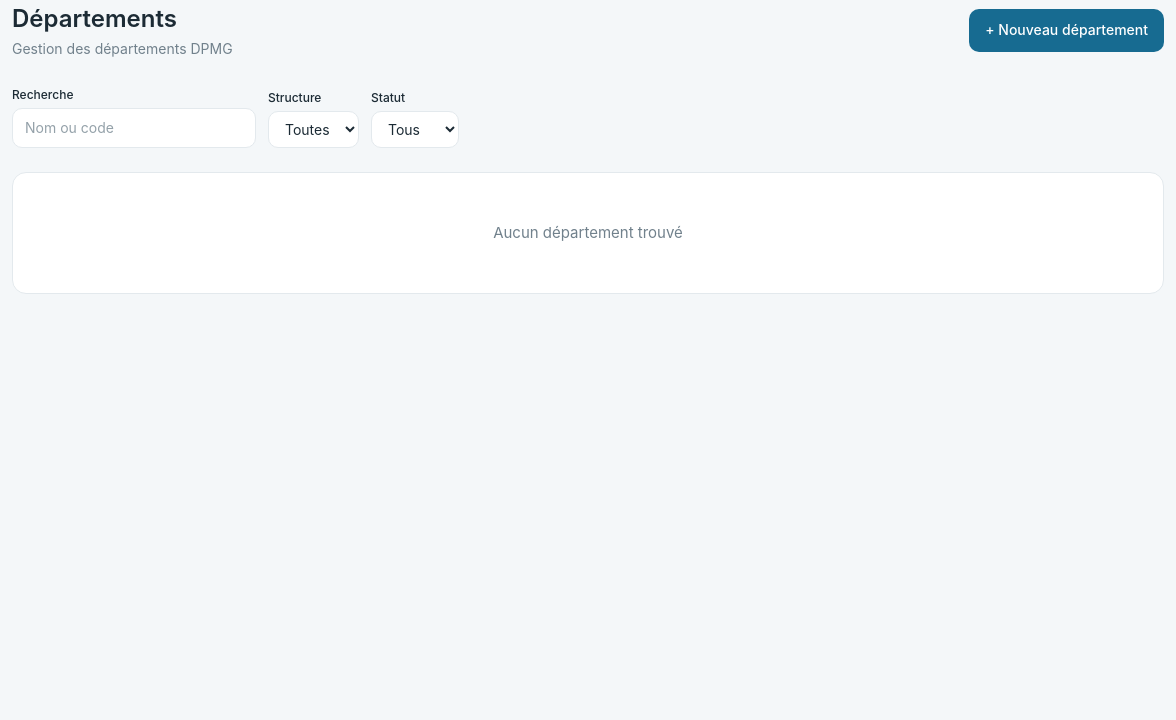
le bouton nouveau departement navigue vers le formulaire
What coordinates should you click on to do the following:
click the button "+ Nouveau département"
I would click on:
 (1067, 30)
Its box is [969,9,1164,52].
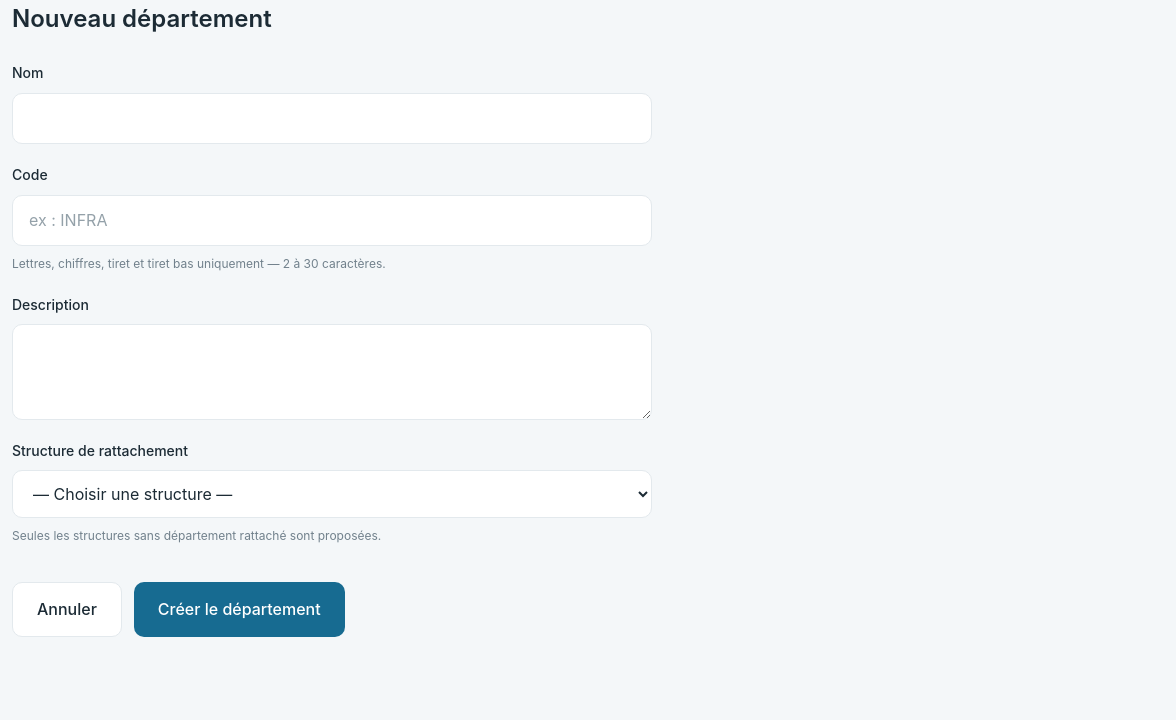
Check: the element with test id "departement-form" is shown, box [12,0,652,637]
